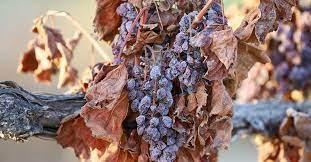Grape Rotten: (111, 1, 227, 161)
